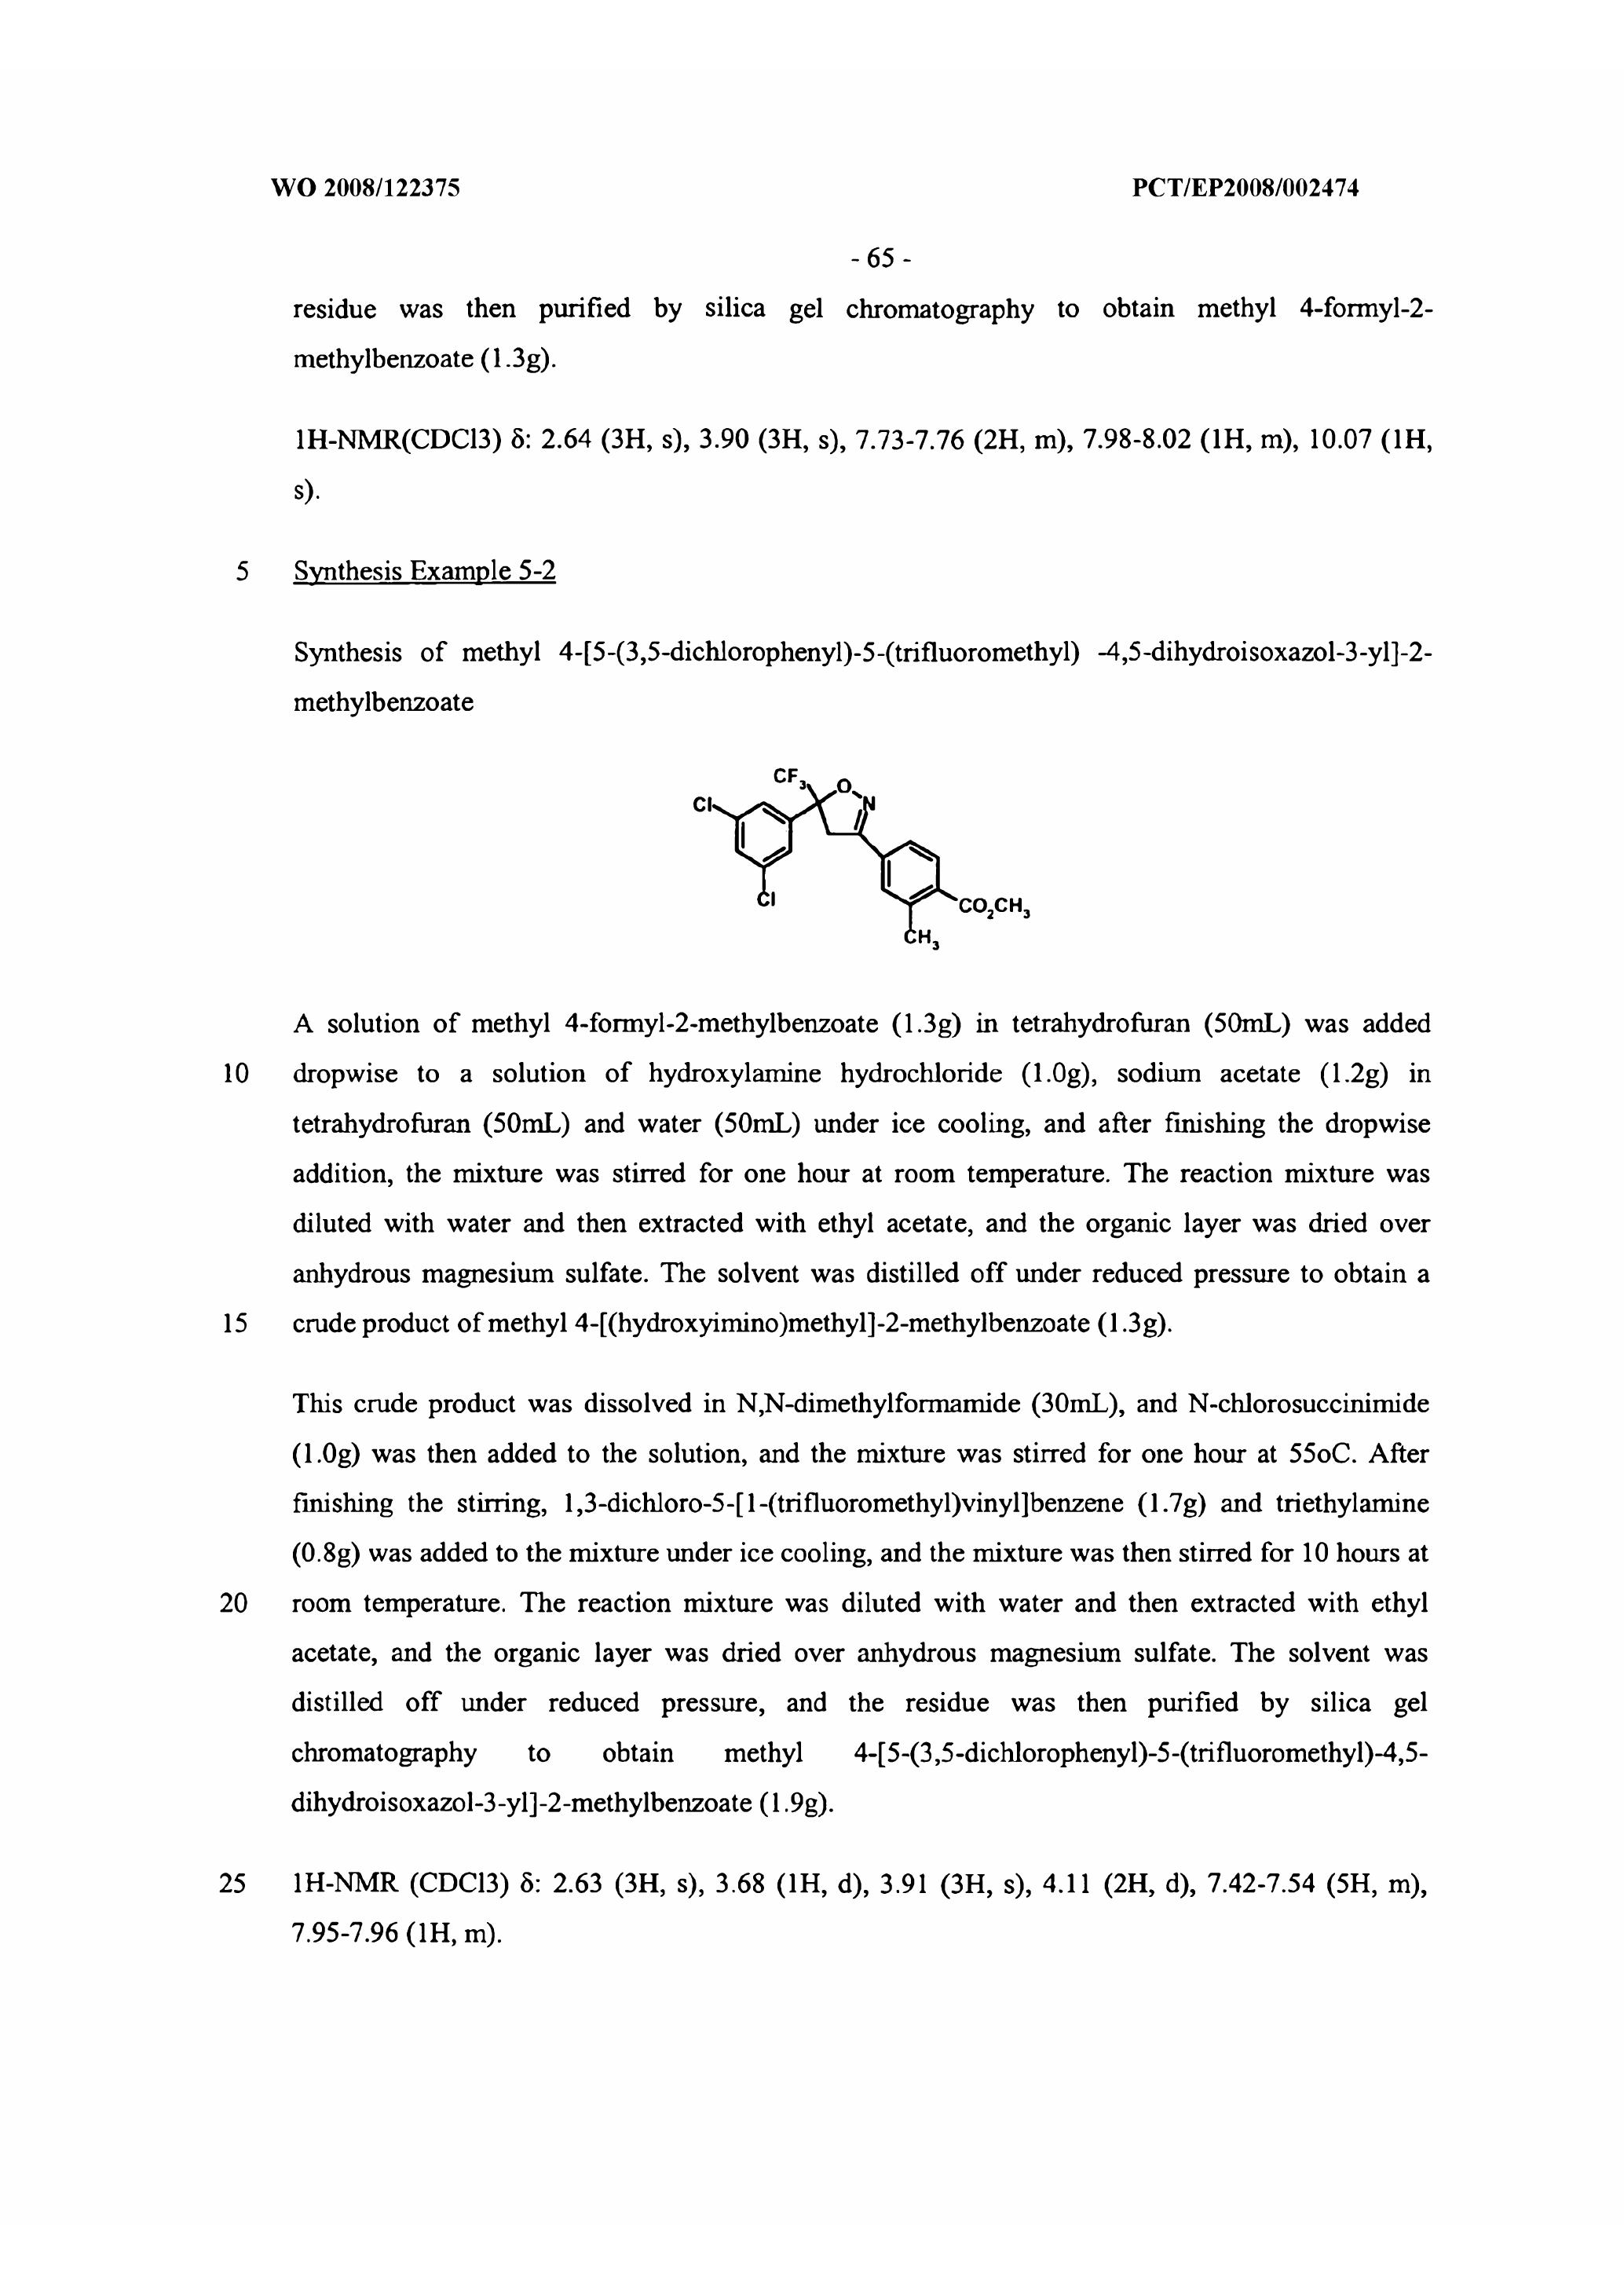relevant-structures: (634, 705, 1128, 995)
